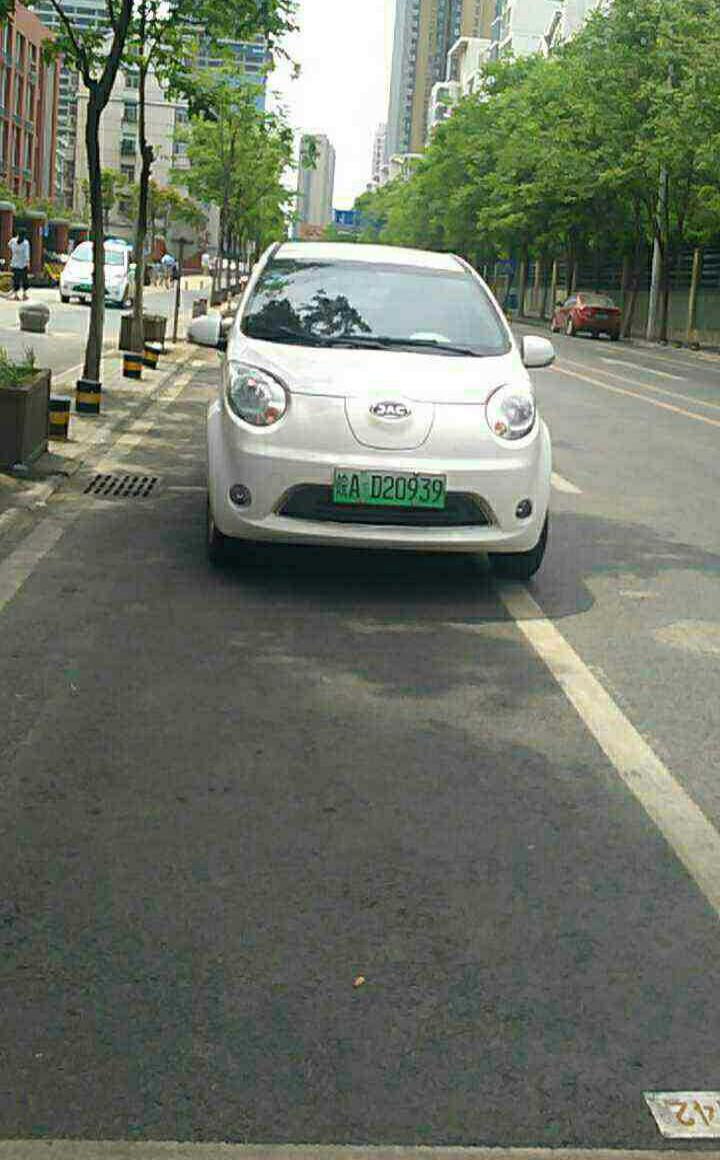car: (334, 469, 450, 512)
